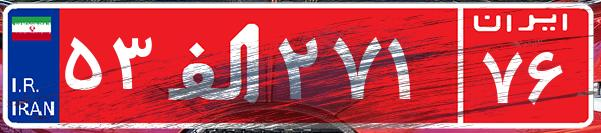1: (385, 28, 445, 110)
2: (273, 28, 330, 110)
3: (110, 28, 158, 105)
5: (57, 26, 110, 107)
6: (525, 38, 570, 115)
7: (330, 28, 385, 110), (475, 38, 525, 113)
الف: (158, 15, 273, 115)
